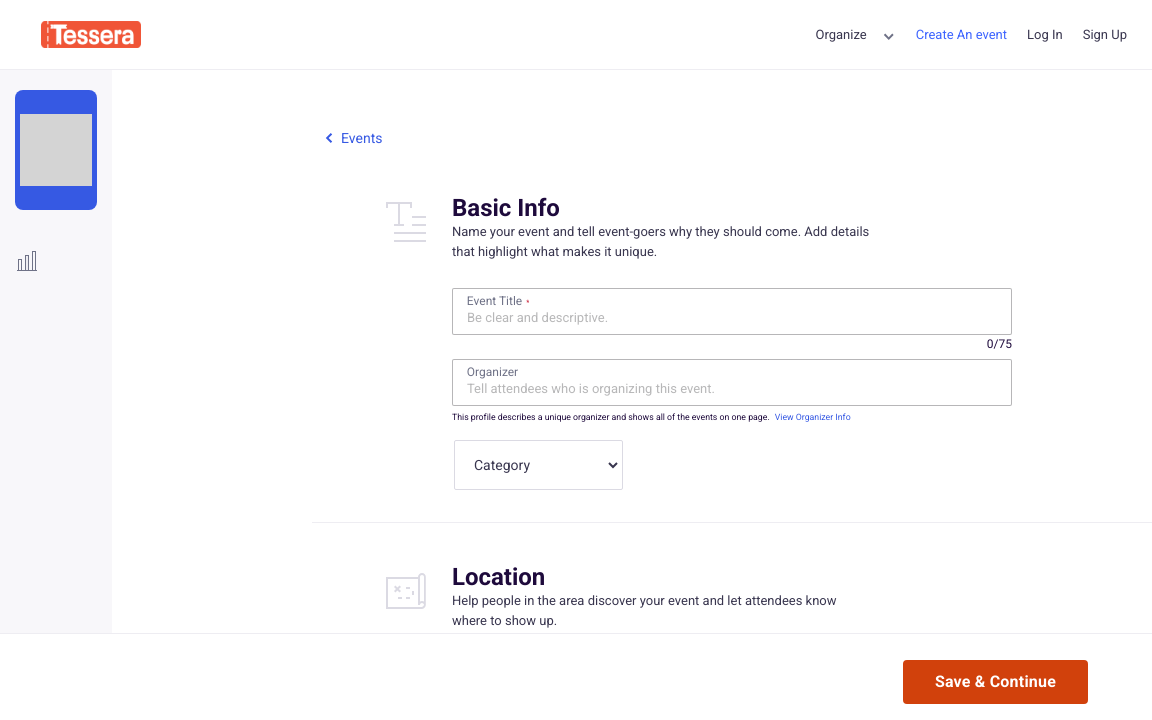
Test: basicinfo › when pressing the continue button with empty input error will appear
Step 1. Click the button "Save & Continue" → (995, 682), box 903,660 -> 1088,704
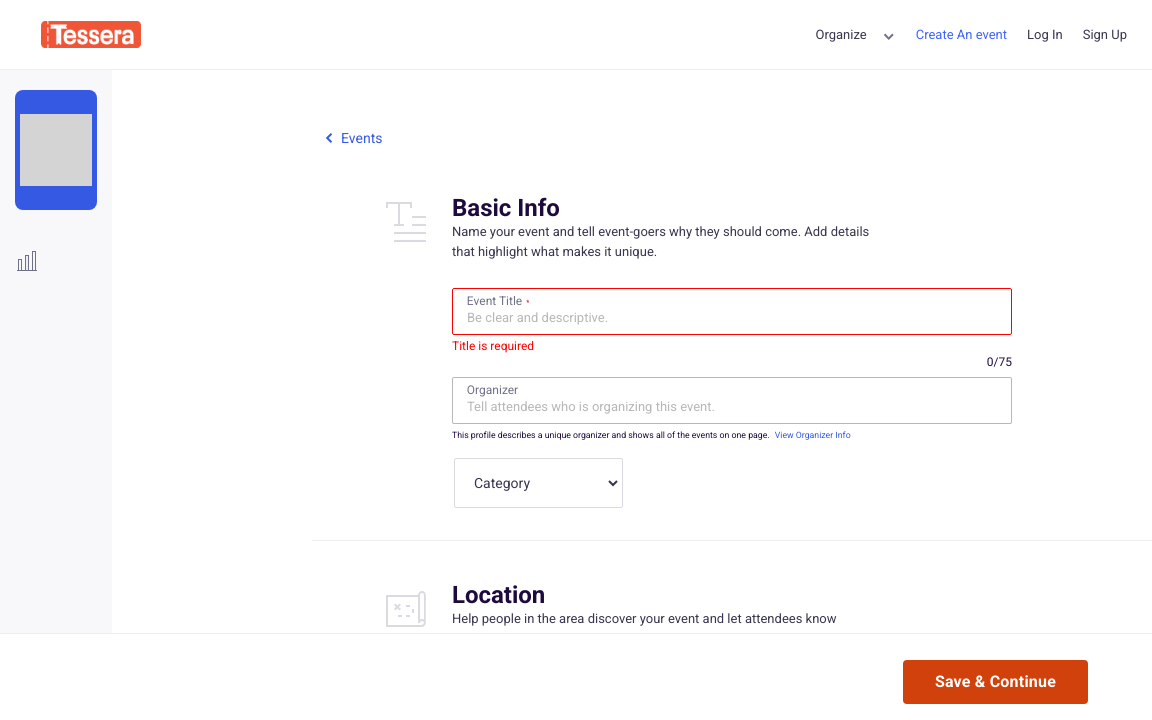
Expected: the text "Title is required" is shown, 452,339 -> 534,353
